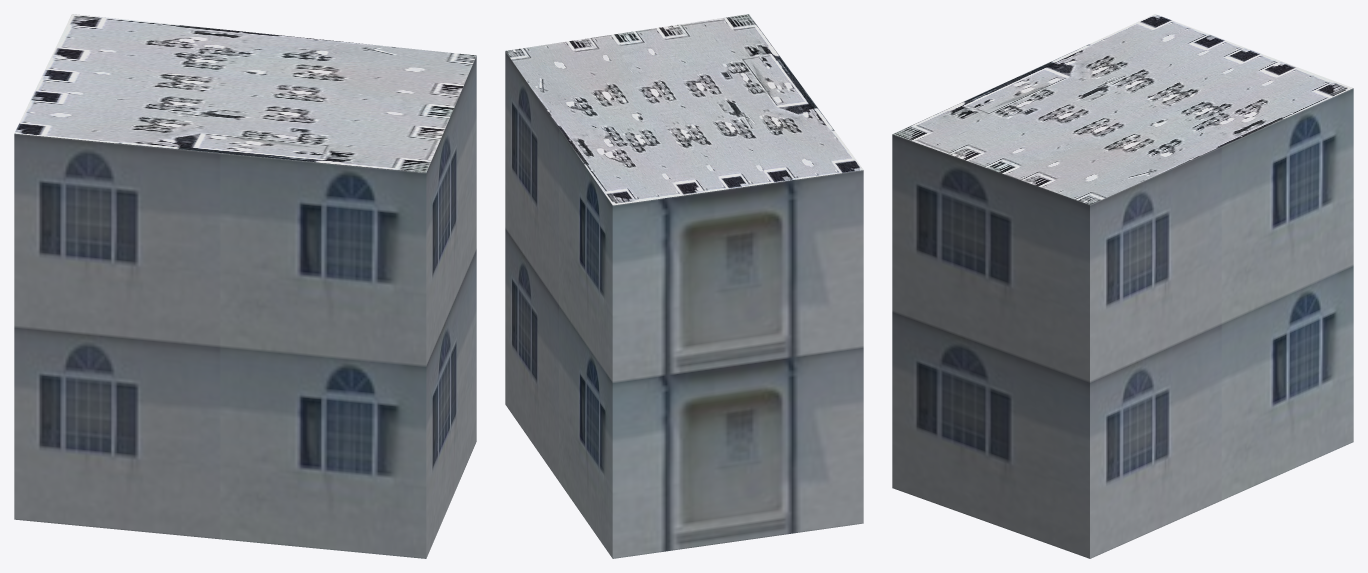
The model's file is ResTex__2166.fbx.
The picture shows the model from 3 angles, left to right: view 1: azimuth 30°, elevation 25°; view 2: azimuth 150°, elevation 25°; view 3: azimuth 270°, elevation 25°; orthographic projection. The views are drawn at different scales.
Visible parts, largest first — view 1: CityEngineMaterial_17_m, CityEngineMaterial_4_m; view 2: CityEngineMaterial_17_m, CityEngineMaterial_4_m; view 3: CityEngineMaterial_17_m, CityEngineMaterial_4_m.
Boxes of the visible parts, <box> form: CityEngineMaterial_17_m: <box>14,56,476,558</box>; CityEngineMaterial_4_m: <box>14,14,476,172</box>; CityEngineMaterial_17_m: <box>505,51,863,558</box>; CityEngineMaterial_4_m: <box>505,14,863,205</box>; CityEngineMaterial_17_m: <box>892,88,1353,558</box>; CityEngineMaterial_4_m: <box>893,14,1352,204</box>.
Bounding box in the file's own units: 6.95 × 6 × 7.09.
Materials: 2 (2 with a texture image).
